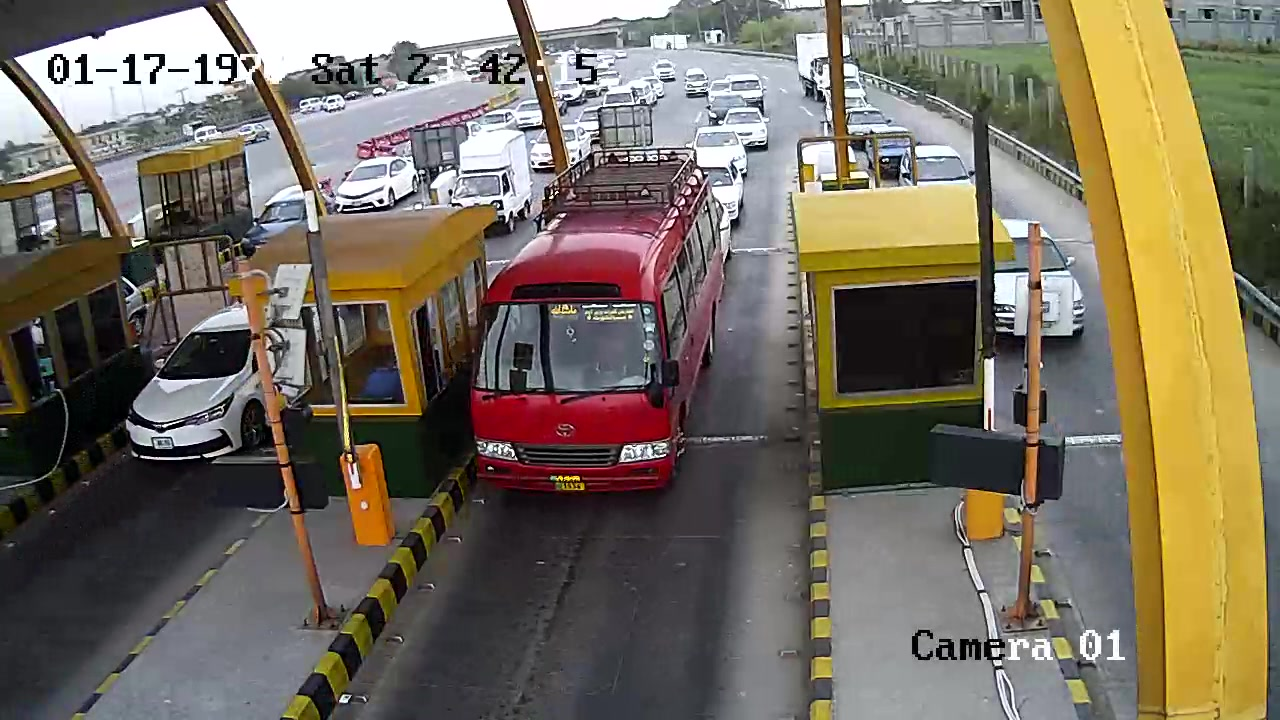F3: (462, 129, 737, 510)
